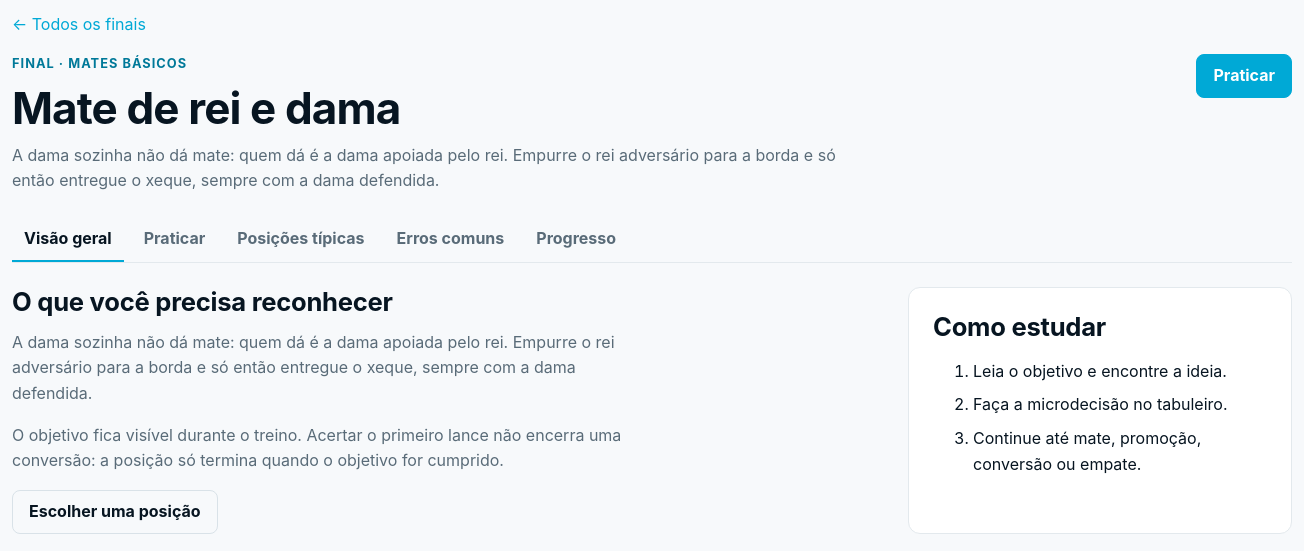
it: detalhe de final › mostra objetivo e posições sem transformar final em árvore de teoria
Click the 2nd button "Praticar" at (174, 240), box left=132, top=218, right=217, bottom=262
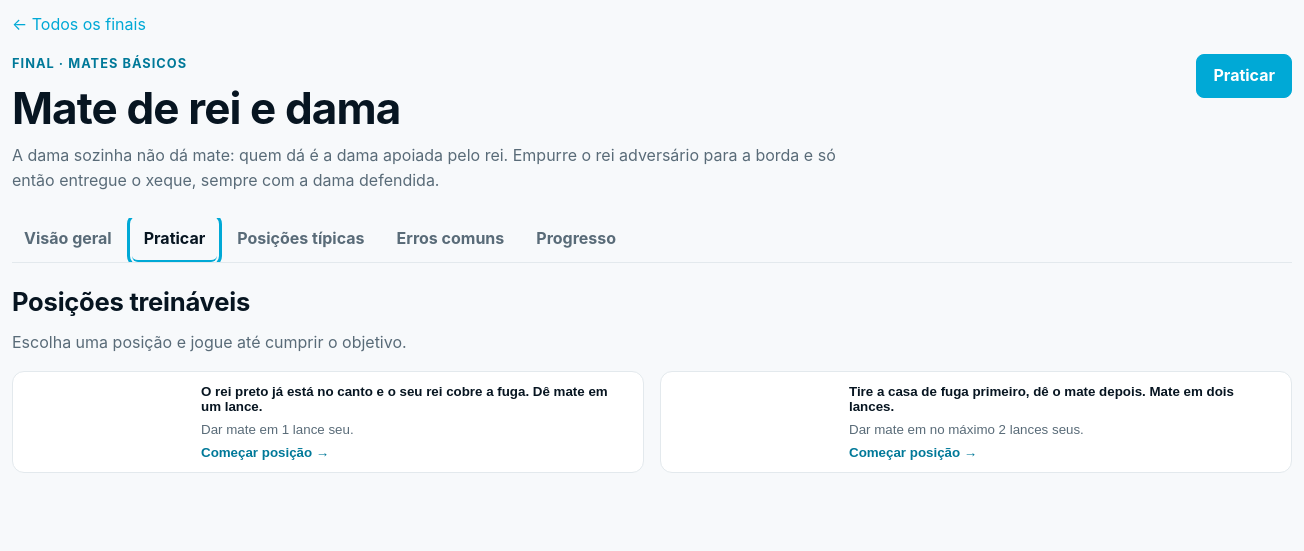
Check: the heading "Posições treináveis" is shown, box left=12, top=286, right=250, bottom=317
Check: the 1st text "Começar posição →" is shown, box left=201, top=445, right=329, bottom=460
Check: the text "mate em" is shown, box left=201, top=384, right=608, bottom=414
